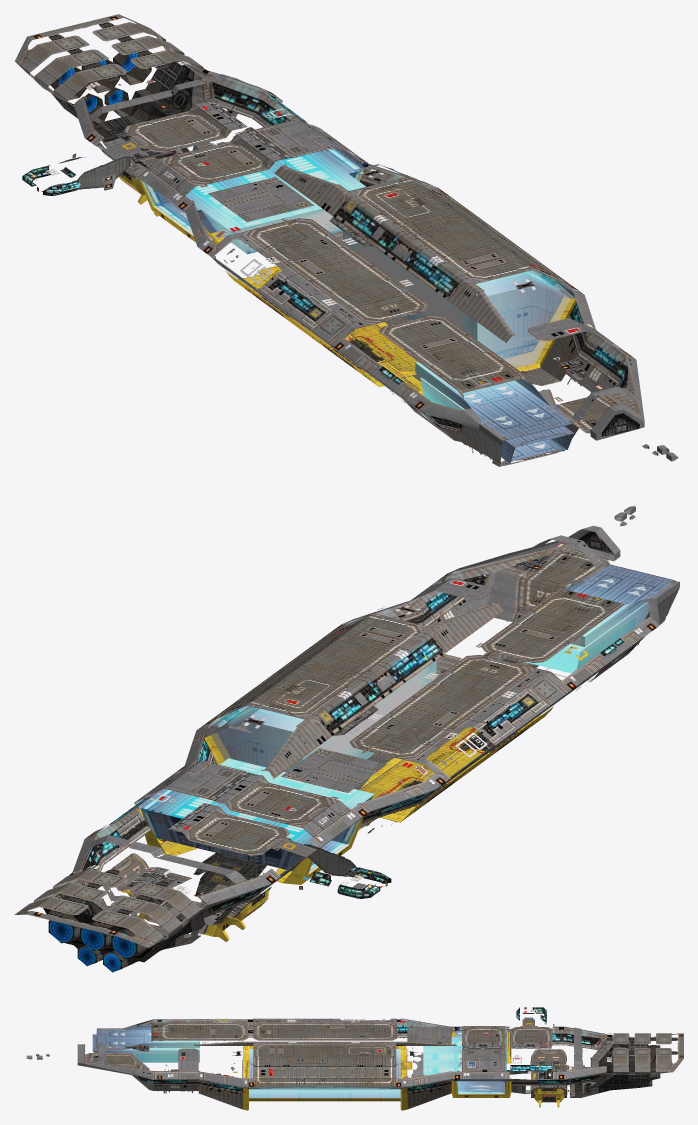
The picture shows the model from 3 angles, top to bottom: view 1: azimuth 30°, elevation 25°; view 2: azimuth 150°, elevation 25°; view 3: azimuth 270°, elevation 25°; orthographic projection. The views are drawn at different scales.
Parts seen in each view (by area): view 1: Hgn_Carrier_Main_TEX, Hgn_Carrier_Engine_TEX, Hgn_Carrier_Badge; view 2: Hgn_Carrier_Main_TEX, Hgn_Carrier_Engine_TEX, Hgn_Carrier_Badge, Hgn_C_Innate_Resource_TEX; view 3: Hgn_Carrier_Main_TEX, Hgn_Carrier_Badge, Hgn_C_Innate_Resource_TEX, Hgn_Carrier_Engine_TEX.
Part boxes in pixels (x1,y1,x2,y2): Hgn_Carrier_Main_TEX: (14,14,678,466); Hgn_Carrier_Engine_TEX: (22,53,142,195); Hgn_Carrier_Badge: (208,177,314,221); Hgn_Carrier_Main_TEX: (14,506,679,968); Hgn_Carrier_Engine_TEX: (43,839,391,972); Hgn_Carrier_Badge: (281,748,386,792); Hgn_C_Innate_Resource_TEX: (116,856,268,941); Hgn_Carrier_Main_TEX: (26,1018,683,1110); Hgn_Carrier_Badge: (407,1026,451,1044); Hgn_C_Innate_Resource_TEX: (533,1064,564,1107); Hgn_Carrier_Engine_TEX: (516,1007,655,1084).
Size of the model in its own units: 242 by 73.23 by 770.
